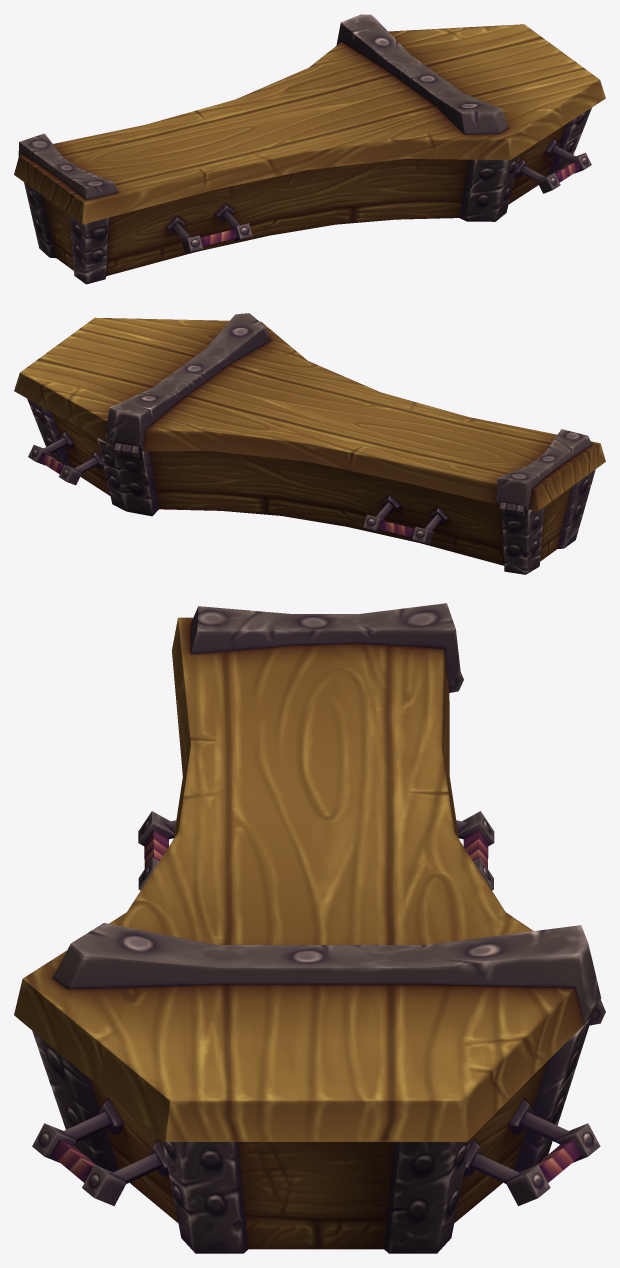
File: wooden-coffin.FBX
3 renders of one model, top to bottom at view 1: azimuth 30°, elevation 25°; view 2: azimuth 150°, elevation 25°; view 3: azimuth 270°, elevation 25°, orthographic. The views are drawn at different scales.
Parts seen in each view (by area): view 1: woodencoffin_cover, woodencoffin; view 2: woodencoffin_cover, woodencoffin; view 3: woodencoffin_cover, woodencoffin.
Part boxes in pixels (bbox=[...]): woodencoffin_cover: bbox=[14, 14, 605, 224]; woodencoffin: bbox=[24, 107, 591, 284]; woodencoffin_cover: bbox=[14, 313, 605, 510]; woodencoffin: bbox=[27, 398, 595, 574]; woodencoffin_cover: bbox=[14, 603, 601, 1141]; woodencoffin: bbox=[32, 672, 605, 1253].
Size of the model in its own units: 33.91 by 6.86 by 17.26.
